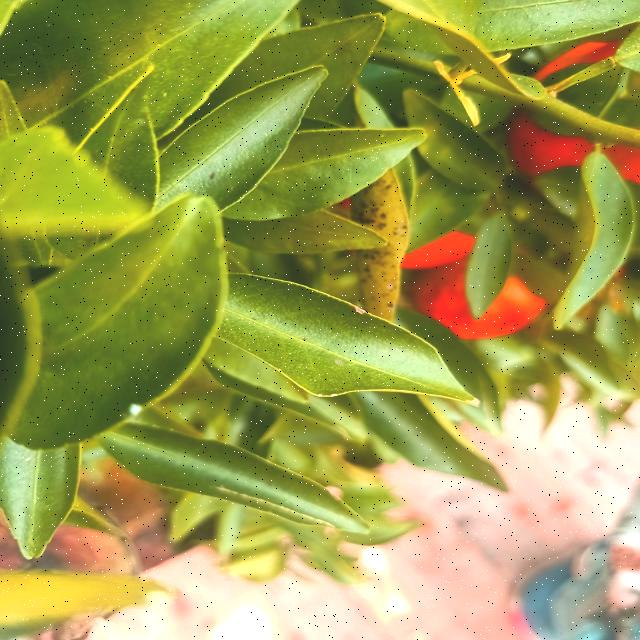healthy: (37, 249, 209, 400), (0, 0, 146, 88), (170, 445, 336, 522), (250, 309, 405, 389), (181, 100, 288, 188), (1, 441, 77, 558)
